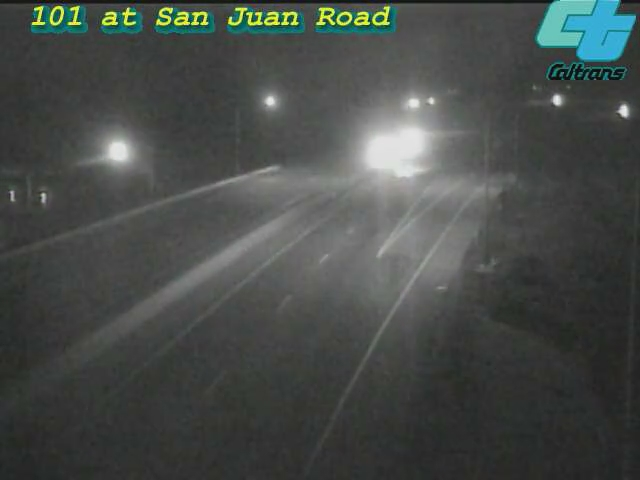vehicle: (368, 129, 448, 209), (357, 128, 407, 178), (386, 116, 436, 166), (600, 88, 640, 138)
